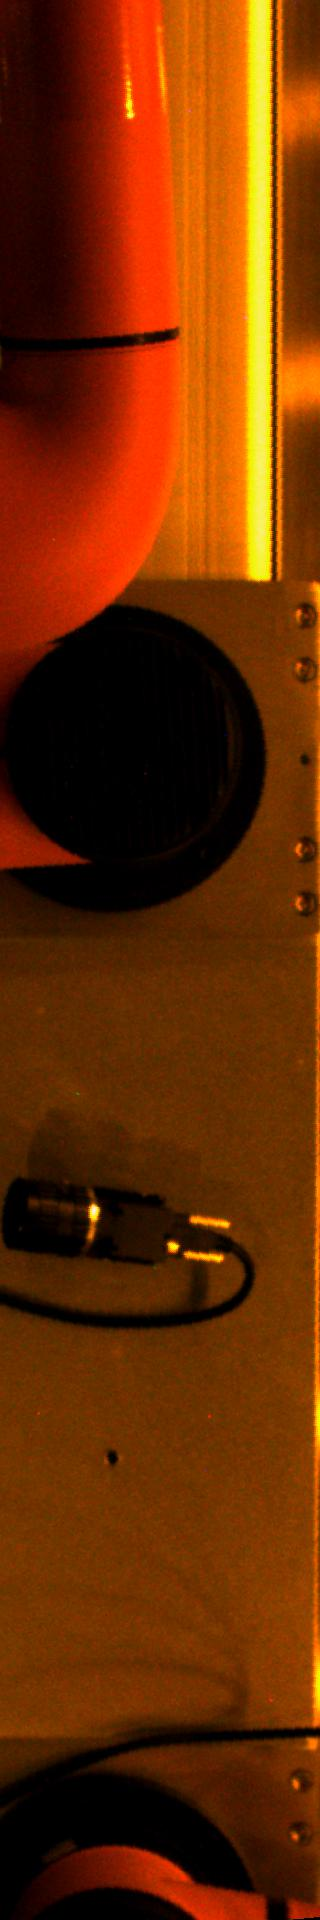keyPoint_2: (97, 1442, 128, 1472)
